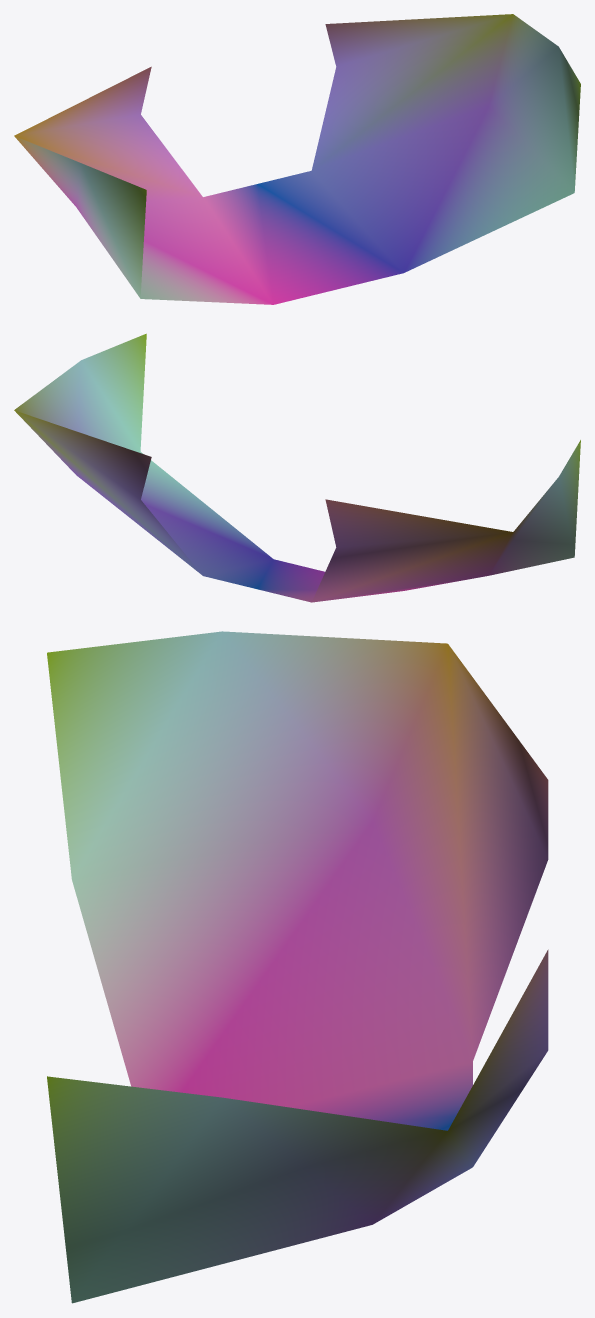
3 renders of one model, top to bottom at view 1: azimuth 30°, elevation 25°; view 2: azimuth 150°, elevation 25°; view 3: azimuth 270°, elevation 25°, orthographic. The views are drawn at different scales.
Parts seen in each view (by area): view 1: part; view 2: part; view 3: part.
Boxes of the visible parts, <box> form: part: <box>14,14,580,304</box>; part: <box>14,333,580,602</box>; part: <box>47,631,548,1303</box>.
Size of the model in its own units: 46 by 15 by 20.
